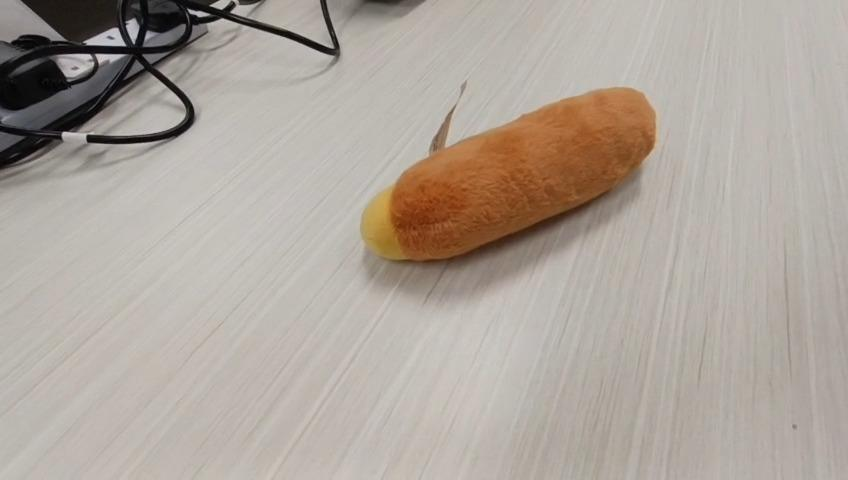hotdog: (359, 83, 656, 262)
